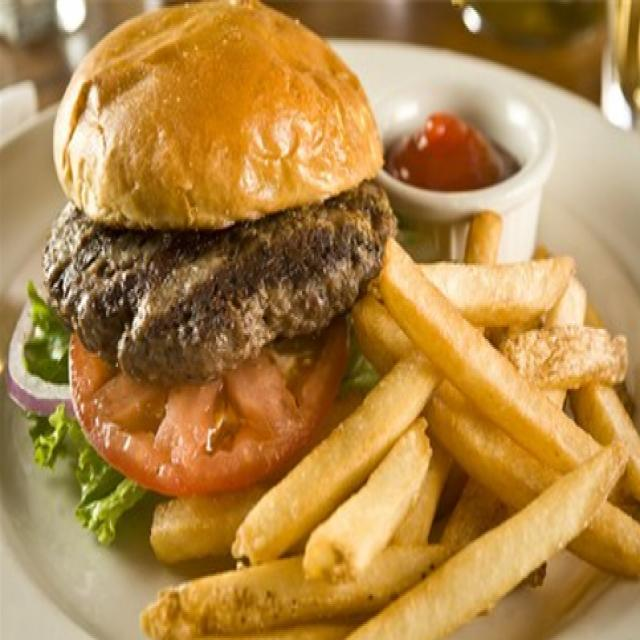Burger: (34, 0, 388, 448)
French Fries: (142, 191, 636, 638)
